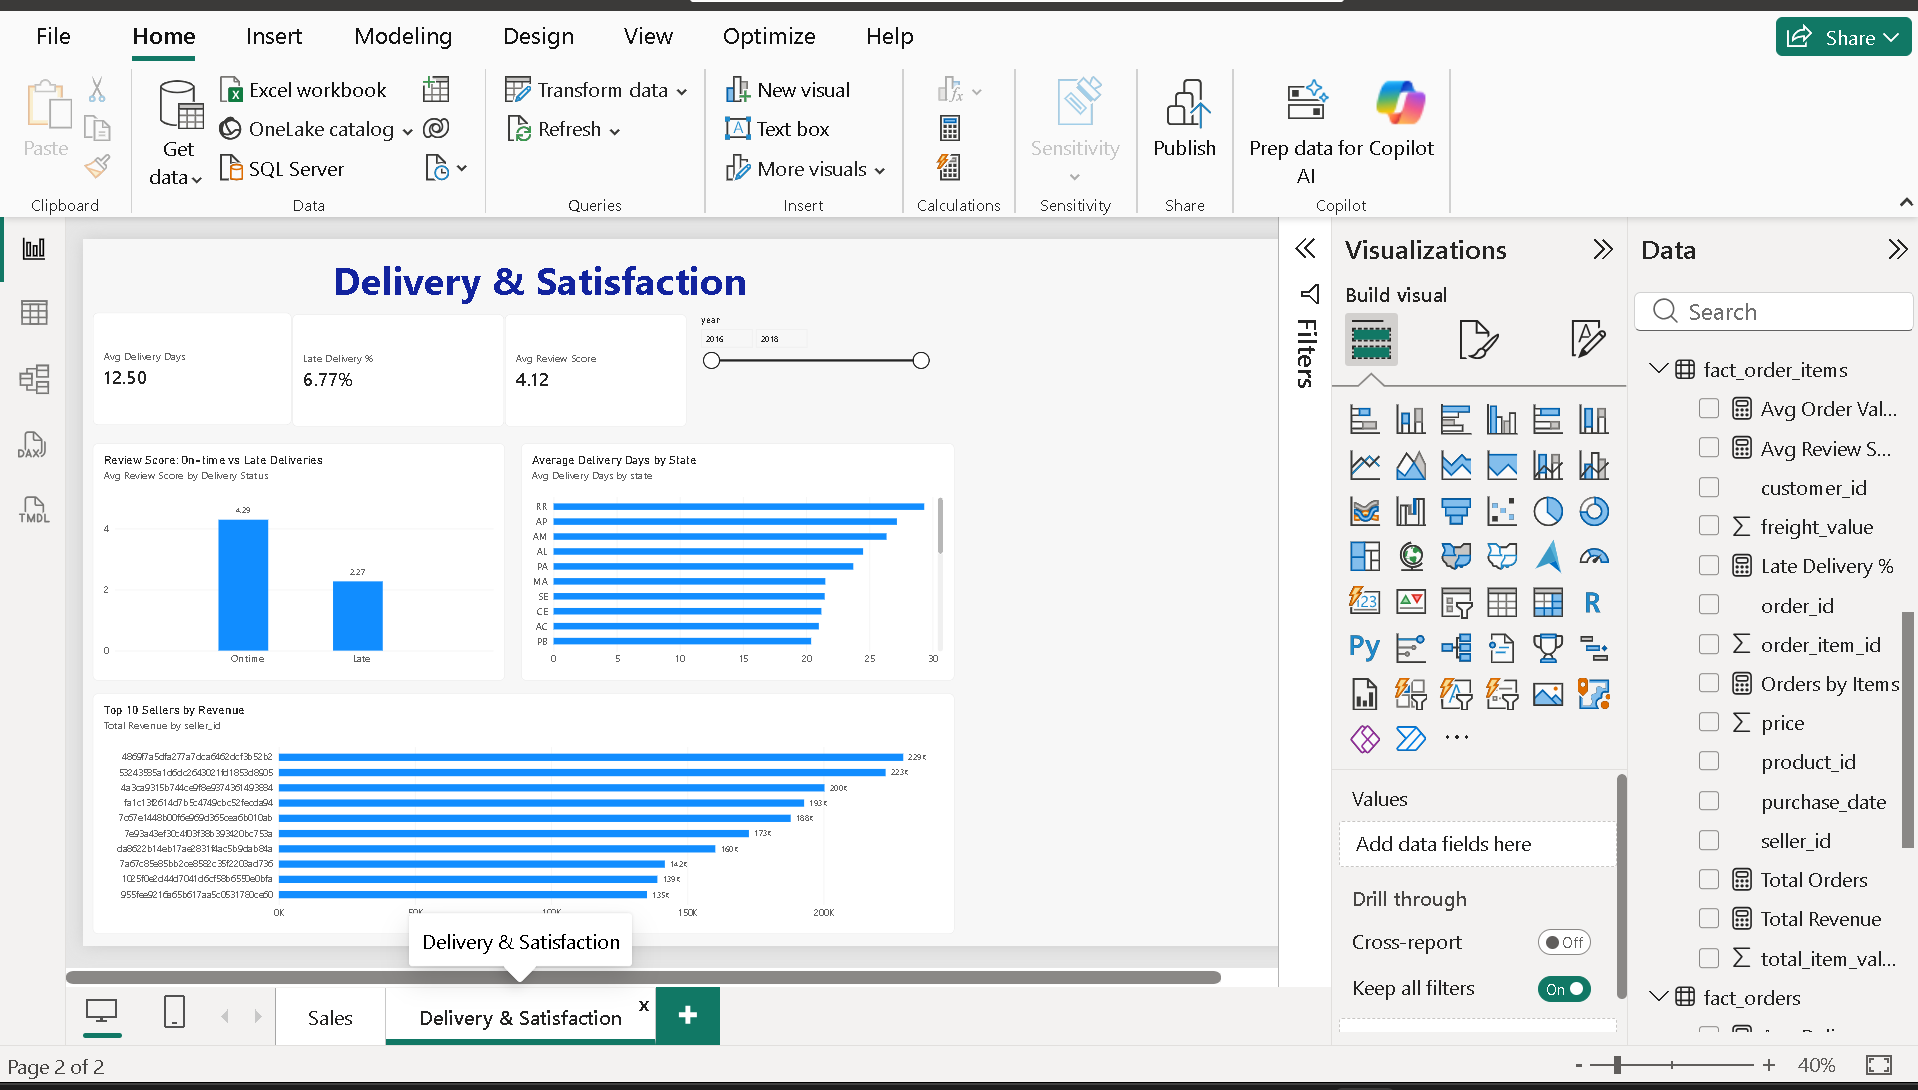

The dashboard page shown, as its layout file describes it:
{"tool":"powerbi","page":{"name":"Delivery & Satisfaction","canvas":[1920,1080],"ordinal":1},"visuals":[{"type":"cardVisual","fields":{"Data":["fact_orders.Avg Delivery Days"]},"box":[16,112,304,172],"z":0},{"type":"cardVisual","fields":{"Data":["fact_order_items.Late Delivery %"]},"box":[320,114,324,172],"z":1},{"type":"cardVisual","fields":{"Data":["fact_order_items.Avg Review Score"]},"box":[644,114,278,172],"z":2},{"type":"clusteredColumnChart","title":"Review Score: On-time vs Late Deliveries","fields":{"Category":["fact_orders.Delivery Status"],"Y":["fact_order_items.Avg Review Score"]},"box":[15,312.5,630,362.5],"z":3},{"type":"clusteredBarChart","title":"Average Delivery Days by State","fields":{"Category":["dim_customer.state"],"Y":["fact_orders.Avg Delivery Days"]},"box":[670,312.5,662.5,362.5],"z":4},{"type":"clusteredBarChart","title":"Top 10 Sellers by Revenue","fields":{"Category":["dim_seller.seller_id"],"Y":["fact_order_items.Total Revenue"]},"box":[15,695,1317.5,367.5],"z":5},{"type":"slicer","fields":{"Values":["dim_date.year"]},"box":[937.5,115,360,172.5],"z":6},{"type":"textbox","box":[100,23.3,1196.7,173.3],"z":7}]}

Visuals, with their boxes on the page's 1920x1080 design canvas (x1, y1, x2, y2). These are canvas units, not pixel positions in the 1918x1090 screenshot, which may show the page scaled, cropped or inside an application window:
cardVisual - fact_orders.Avg Delivery Days: locate(16, 112, 320, 284)
cardVisual - fact_order_items.Late Delivery %: locate(320, 114, 644, 286)
cardVisual - fact_order_items.Avg Review Score: locate(644, 114, 922, 286)
"Review Score: On-time vs Late Deliveries" clusteredColumnChart: locate(15, 312, 645, 675)
"Average Delivery Days by State" clusteredBarChart: locate(670, 312, 1332, 675)
"Top 10 Sellers by Revenue" clusteredBarChart: locate(15, 695, 1332, 1062)
slicer - dim_date.year: locate(938, 115, 1298, 288)
textbox: locate(100, 23, 1297, 197)
